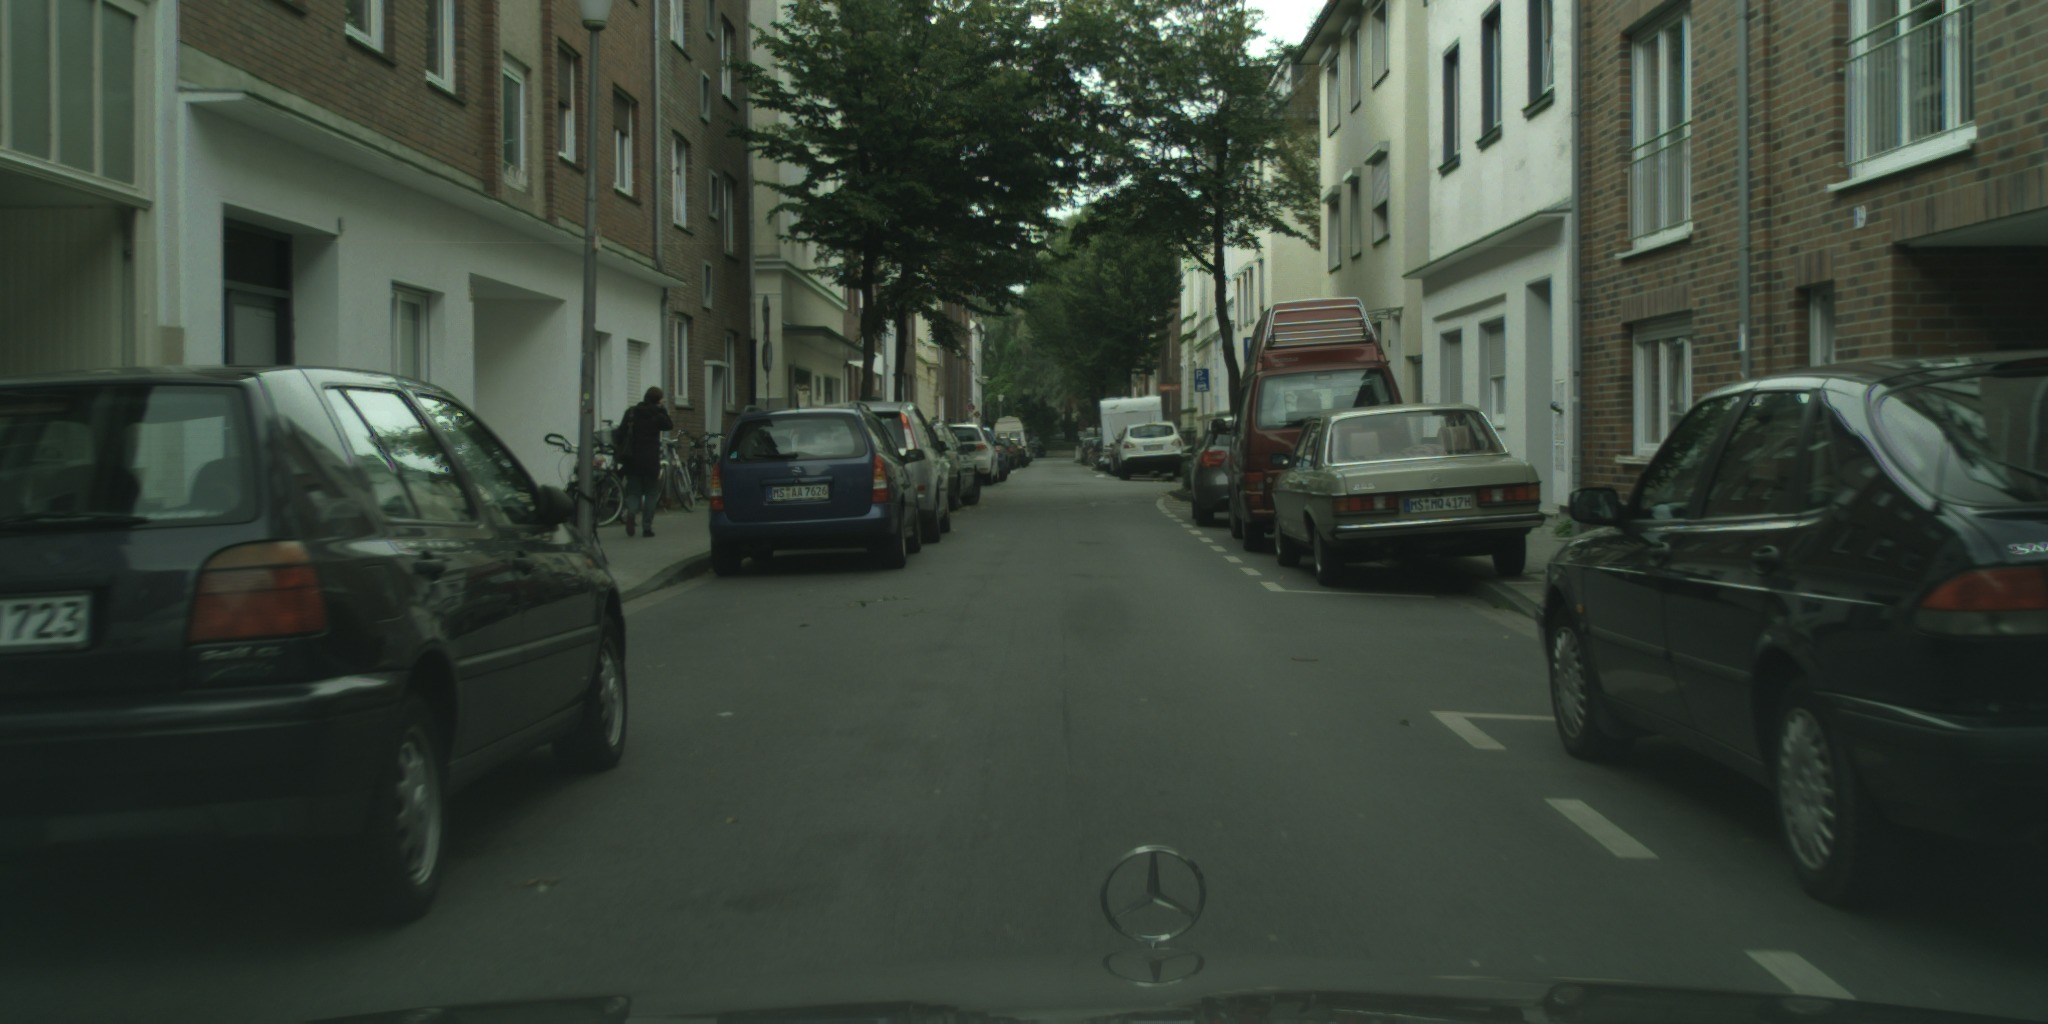car: (0, 365, 630, 926), (1533, 347, 2048, 912), (1268, 402, 1546, 588), (1209, 298, 1411, 553), (709, 401, 929, 576), (820, 401, 953, 543), (1189, 415, 1247, 528), (922, 418, 981, 512), (1115, 422, 1184, 482), (943, 422, 1000, 486), (977, 427, 1013, 483), (992, 416, 1028, 461), (1074, 425, 1106, 464), (988, 436, 1023, 470), (1107, 429, 1128, 477), (1078, 433, 1106, 466), (1009, 436, 1030, 468), (1024, 435, 1047, 459)
person: (613, 385, 675, 540)
